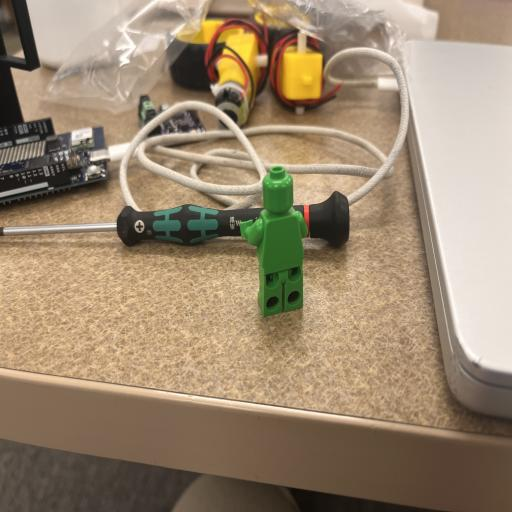Lego-Minifig: (240, 166, 308, 316)
